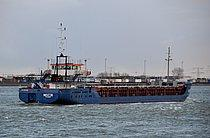Ship: (13, 71, 195, 107)
